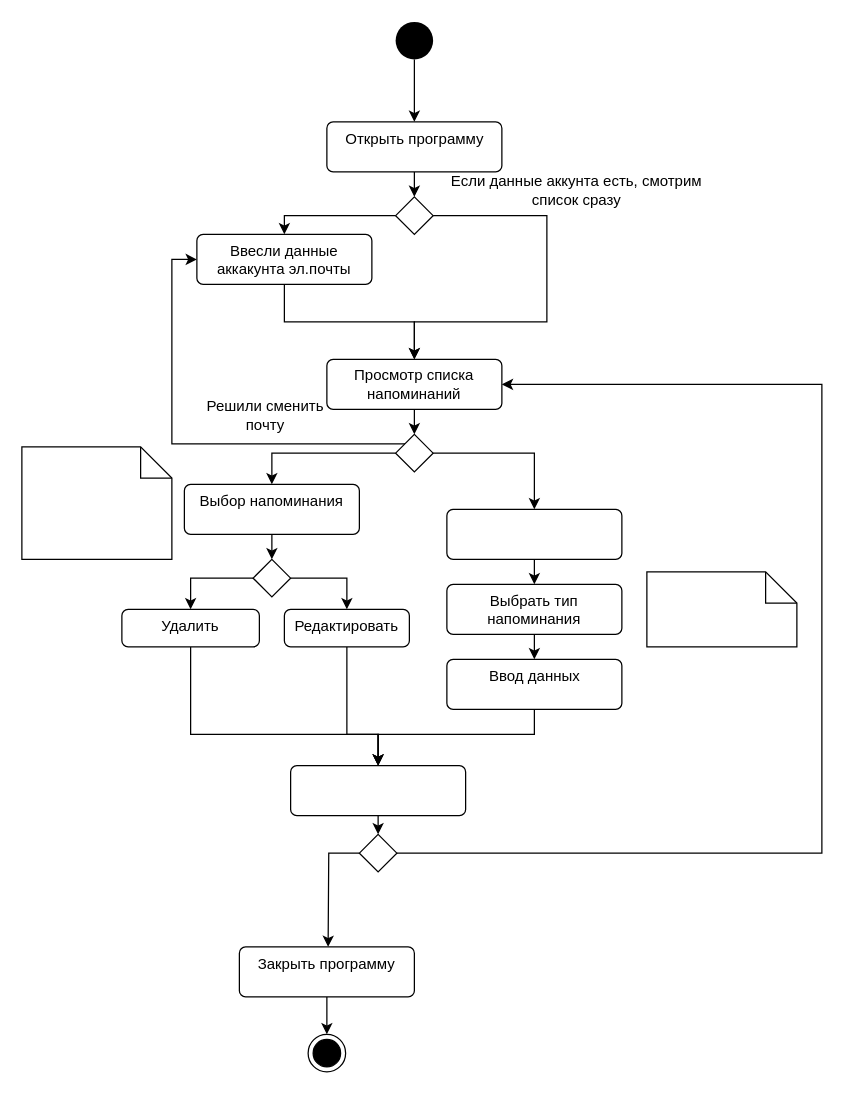
This 854x1094 diagram has some shape labels left out. The shapes that lost their labels are listed below. From the top down, each one's box as (x1, y1, x2, y2) in pixels, then its label:
(21, 446, 172, 559): Отмечать выбор элемента на диаграмме?
(446, 508, 622, 559): Создать напоминание
(646, 571, 797, 647): Надо ли?
(289, 764, 466, 816): Сохранить изменения/обработка данных
